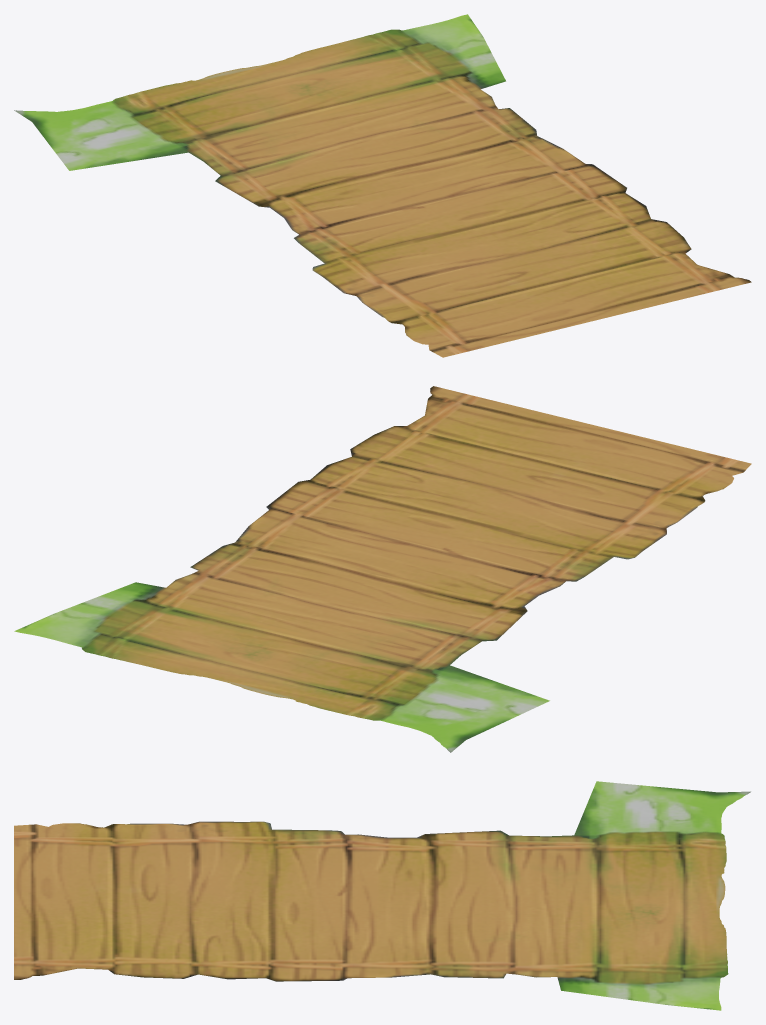
File: location_01_forest_front_01.fbx
3 renders of one model, top to bottom at view 1: azimuth 30°, elevation 25°; view 2: azimuth 150°, elevation 25°; view 3: azimuth 270°, elevation 25°, orthographic. The views are drawn at different scales.
Parts seen in each view (by area): view 1: location_01_forest_front_01; view 2: location_01_forest_front_01; view 3: location_01_forest_front_01.
Part boxes in pixels (bbox=[...]): location_01_forest_front_01: bbox=[14, 14, 751, 357]; location_01_forest_front_01: bbox=[14, 386, 751, 752]; location_01_forest_front_01: bbox=[14, 781, 750, 1010].
Size of the model in its own units: 361 by 3.56e-05 by 491.
